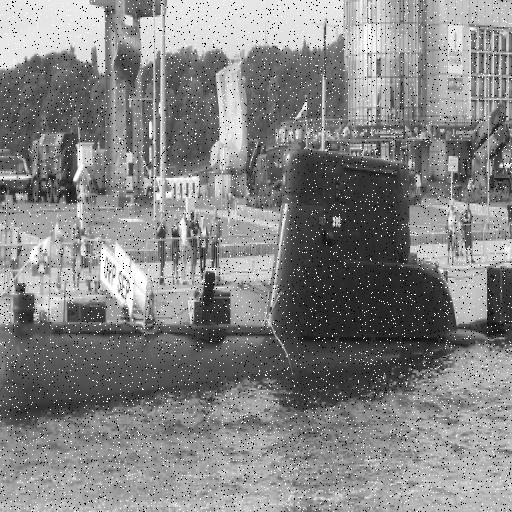submarine: (1, 147, 512, 416)
